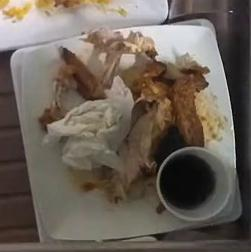chicken: (118, 60, 209, 187)
